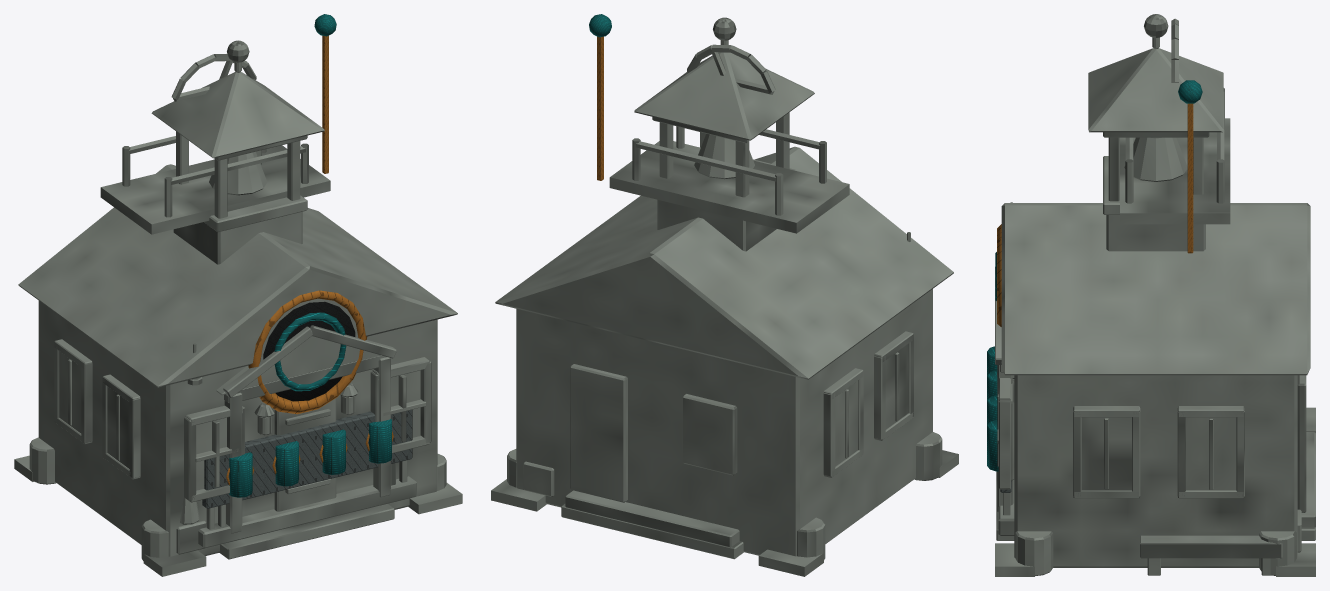
File: schoolhouse.e8.glb
The picture shows the model from 3 angles, left to right: view 1: azimuth 30°, elevation 25°; view 2: azimuth 150°, elevation 25°; view 3: azimuth 270°, elevation 25°; orthographic projection. The views are drawn at different scales.
Parts seen in each view (by area): view 1: SchoolhouseE8MissionArchive; view 2: SchoolhouseE8MissionArchive; view 3: SchoolhouseE8MissionArchive.
Part boxes in pixels (bbox=[...]): SchoolhouseE8MissionArchive: bbox=[14, 14, 462, 576]; SchoolhouseE8MissionArchive: bbox=[491, 14, 958, 576]; SchoolhouseE8MissionArchive: bbox=[987, 14, 1315, 576].
Bounding box in the file's own units: 3.96 × 5.6 × 3.46.
Materials: 1 (1 with a texture image).
